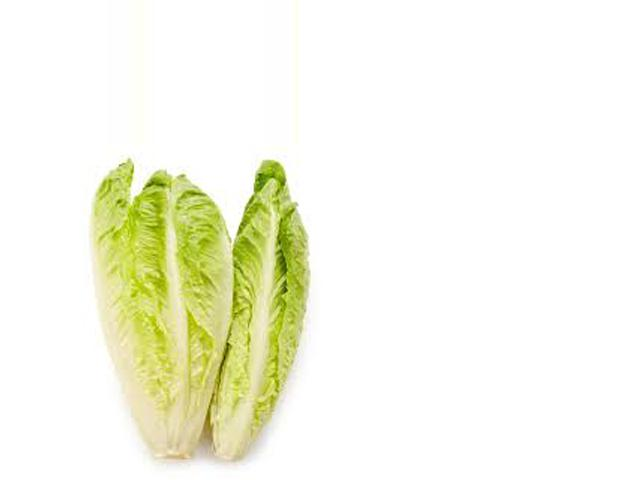lettuce: (201, 155, 338, 479)
